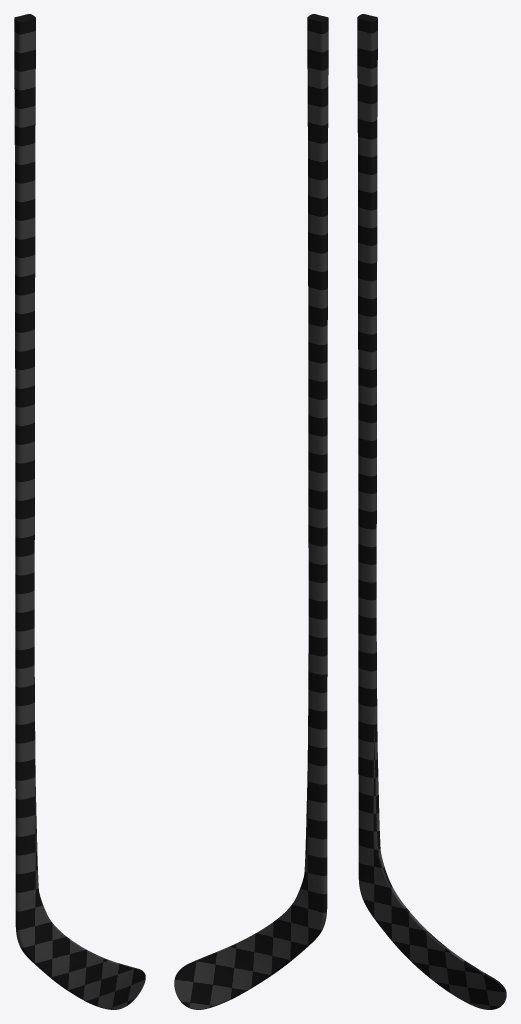
The model's file is P104-SBO.glb.
The picture shows the model from 3 angles, left to right: view 1: azimuth 30°, elevation 25°; view 2: azimuth 150°, elevation 25°; view 3: azimuth 330°, elevation 25°; orthographic projection. The views are drawn at different scales.
Parts seen in each view (by area): view 1: geometry_0; view 2: geometry_0; view 3: geometry_0.
Part boxes in pixels (x1,y1,x2,y2): geometry_0: [14, 14, 145, 1009]; geometry_0: [174, 14, 328, 1009]; geometry_0: [357, 14, 506, 1009].
Size of the model in its own units: 239 by 1650 by 55.71.
1 material, 1 textured.
